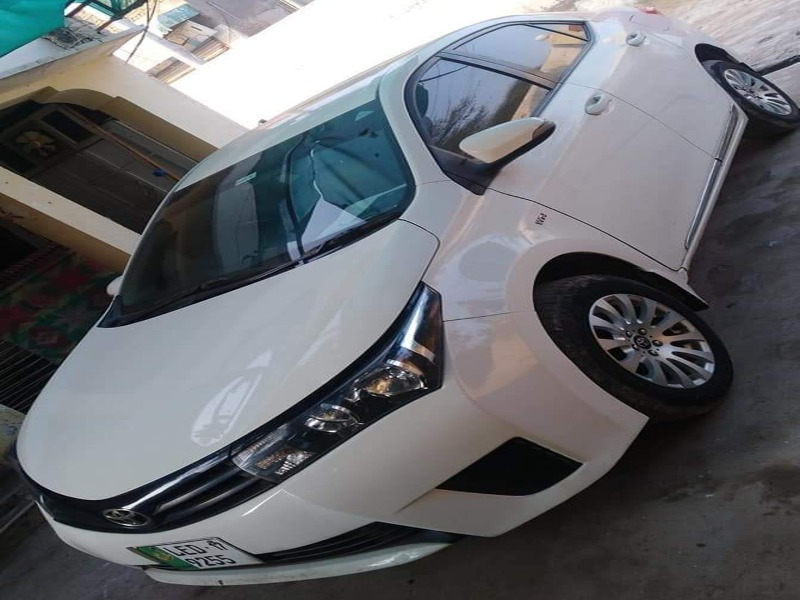License Plate: (127, 534, 265, 578)
